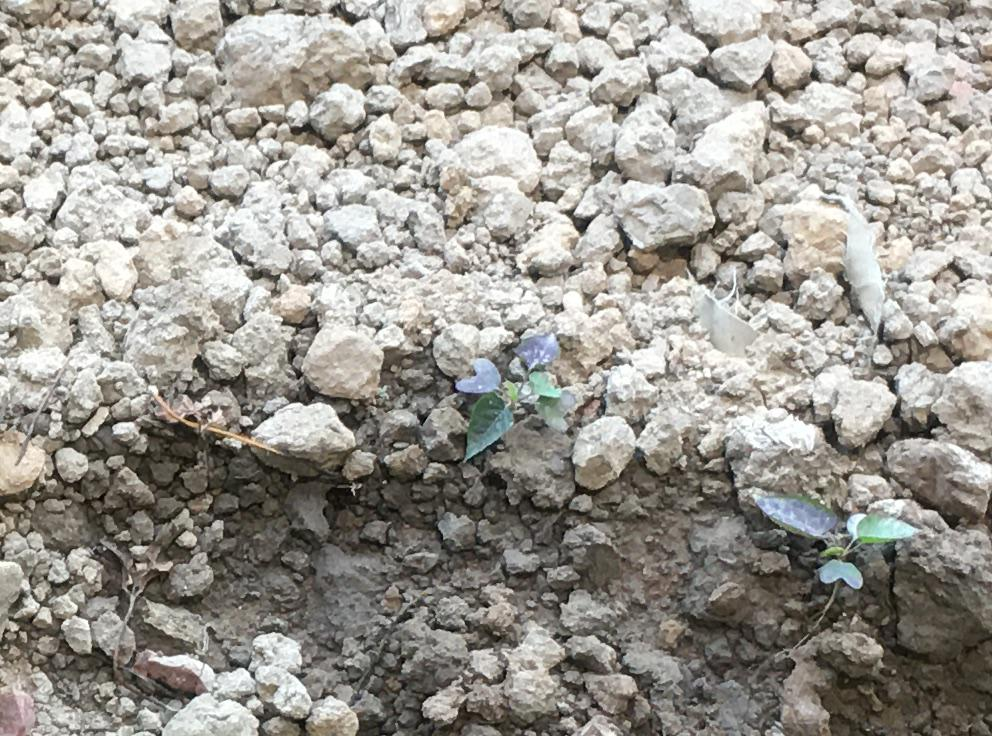block: (213, 15, 363, 100), (246, 397, 365, 479), (885, 436, 992, 526), (602, 177, 722, 250), (691, 100, 767, 194), (302, 320, 382, 399)
